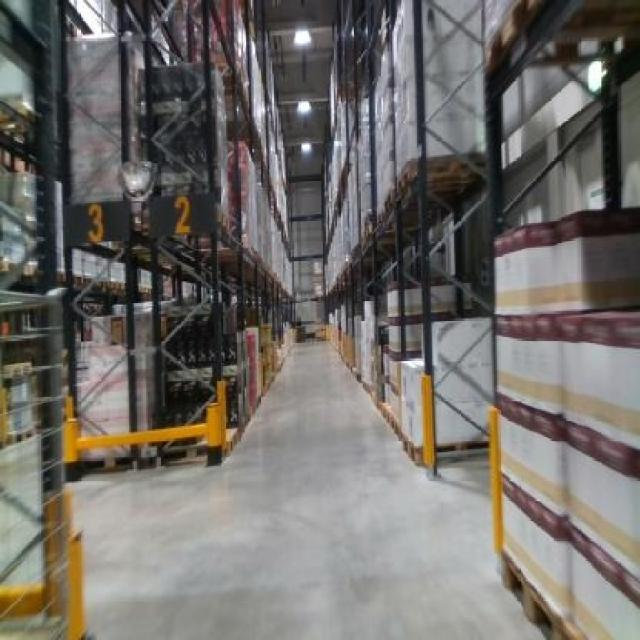pallets: (492, 206, 637, 637)
